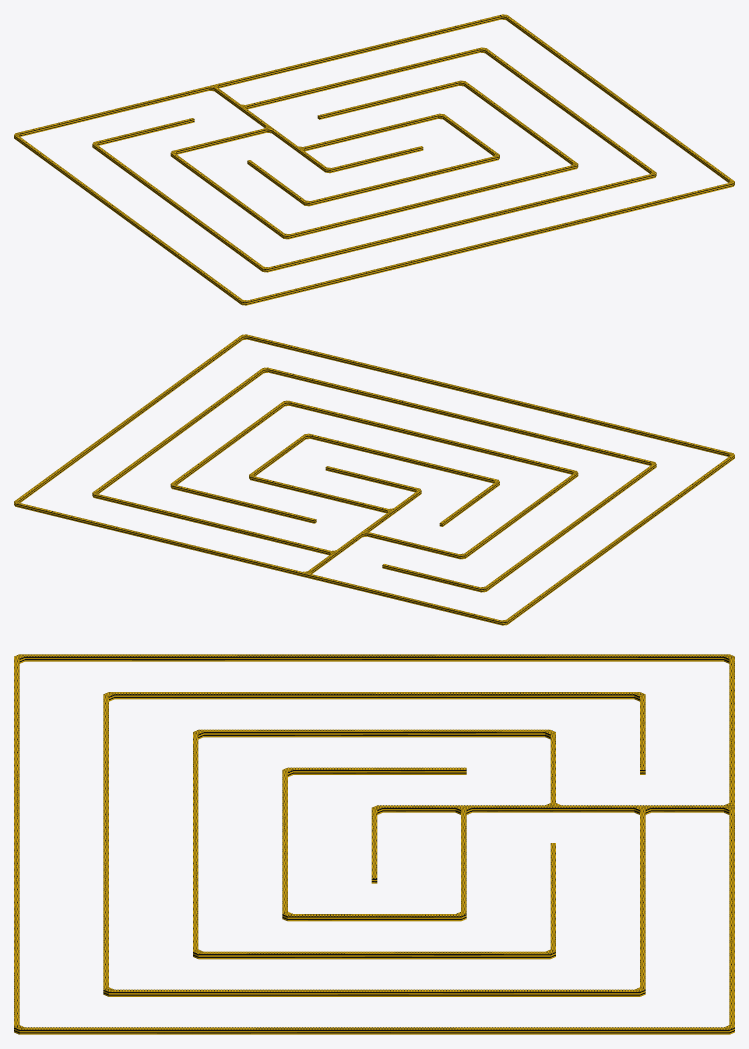
File: Sprint Track L.fbx
3 renders of one model, top to bottom at view 1: azimuth 30°, elevation 25°; view 2: azimuth 150°, elevation 25°; view 3: azimuth 270°, elevation 25°, orthographic. The views are drawn at different scales.
Visible parts, largest first — view 1: Sprint_Track_L; view 2: Sprint_Track_L; view 3: Sprint_Track_L.
Boxes of the visible parts, x1,y1,x2,y2 form: Sprint_Track_L: (14, 14, 734, 305); Sprint_Track_L: (14, 334, 734, 625); Sprint_Track_L: (14, 654, 734, 1034).
Bounding box in the file's own units: 15900 × 100 × 12900.
